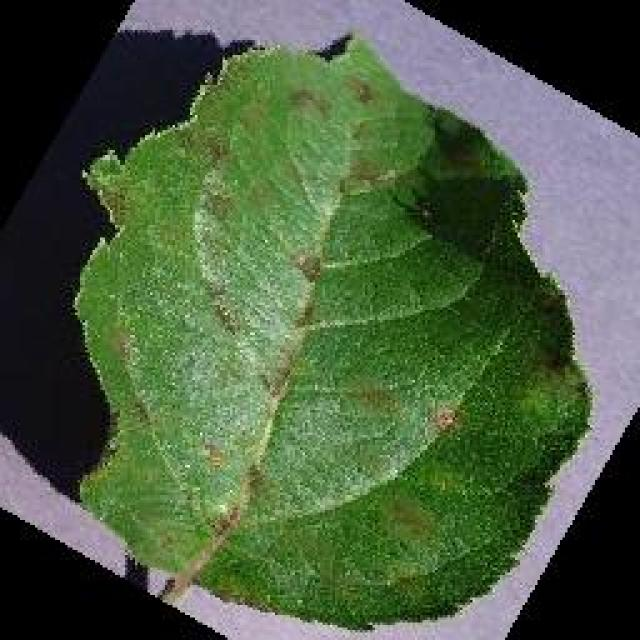apple scab disease: (67, 30, 595, 635)
